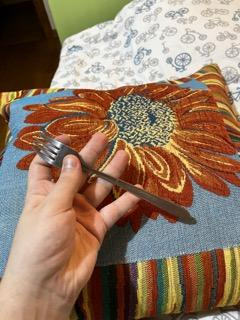fork: (29, 128, 193, 221)
